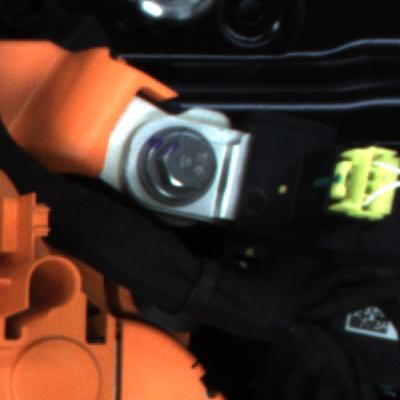nut_b: (134, 120, 226, 213)
